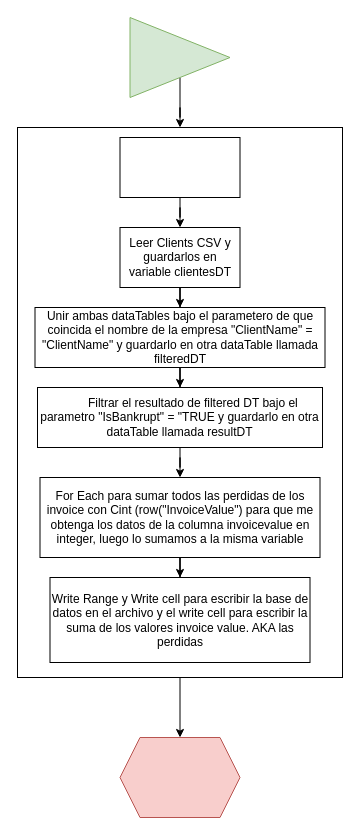
Image size: 360x835. Some labels were removed from this diagram. The centre of each missing label's shape, as x and y in pixels:
End: the point at 179,777
Inicio: the point at 179,57
Leer Invoices y guardarlos en variable invoices DT: the point at 179,167
